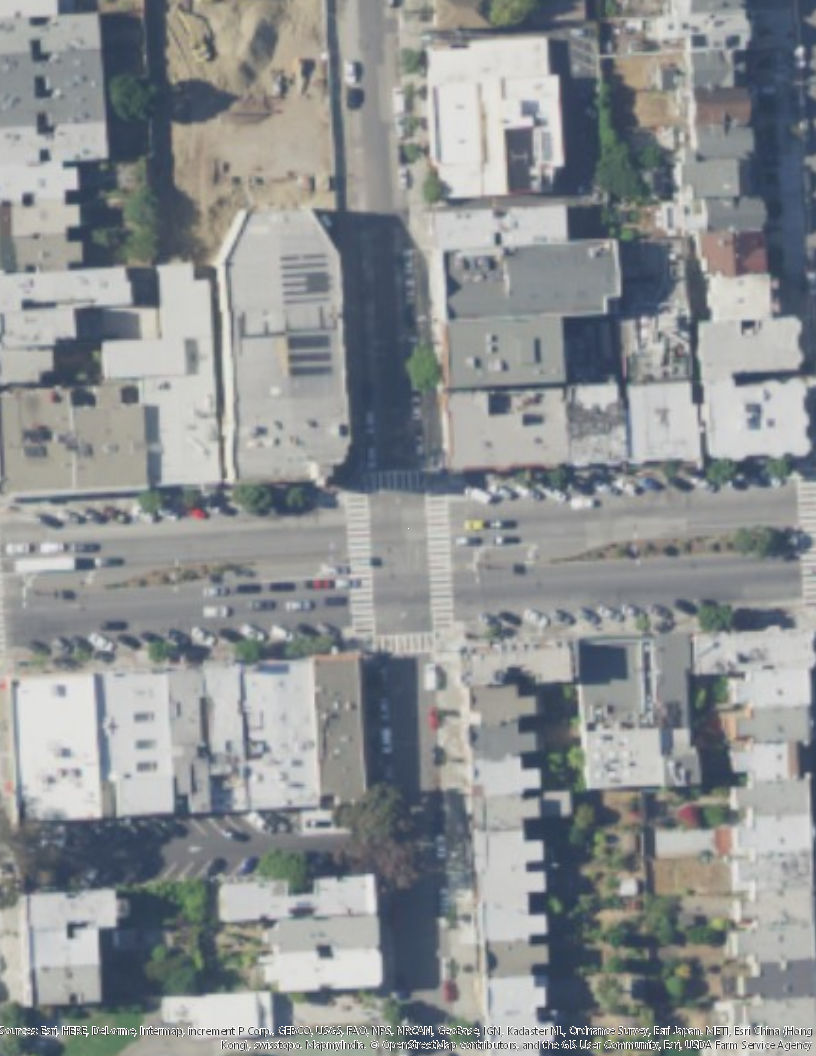zebracross: (341, 492, 378, 632), (423, 490, 458, 632), (796, 472, 816, 593), (375, 631, 439, 655), (367, 469, 423, 492)
